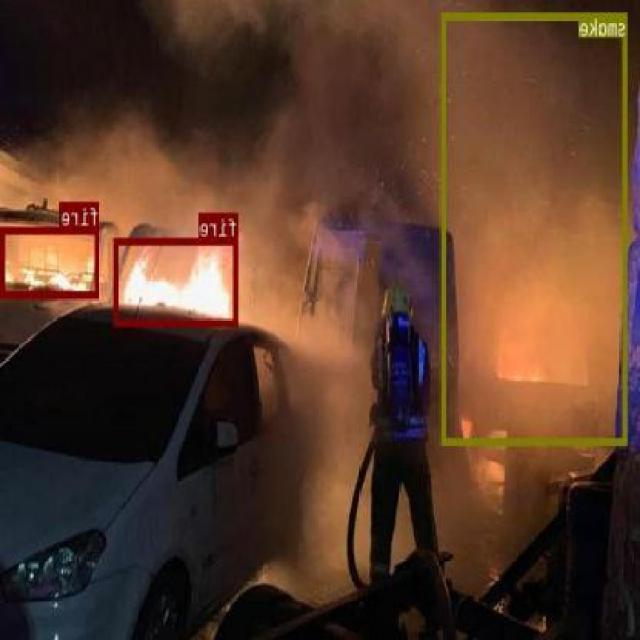Fire: (114, 238, 240, 324), (2, 227, 101, 296)
Smoke: (443, 11, 628, 443)
